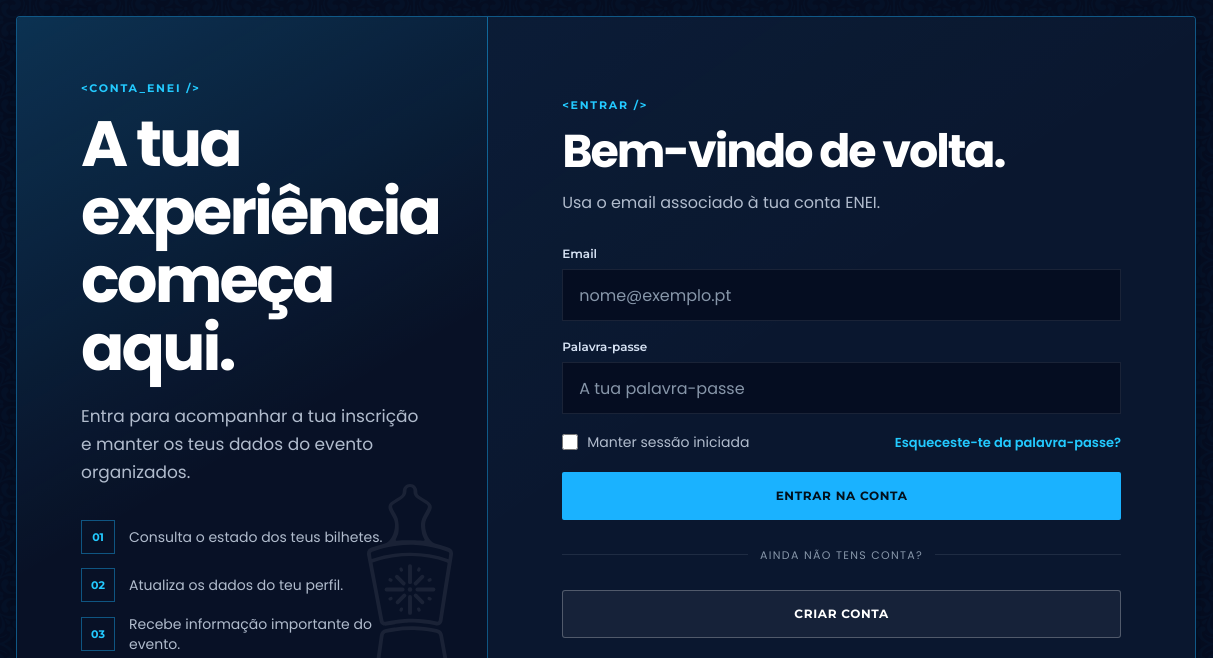
Entrar: estados comuns › 5xx: erro do servidor sem apagar o que se escreveu
The image size is (1213, 658).
Type "ana@example.com" into the field labelled "Email" at (842, 295), box [562,269,1121,321]
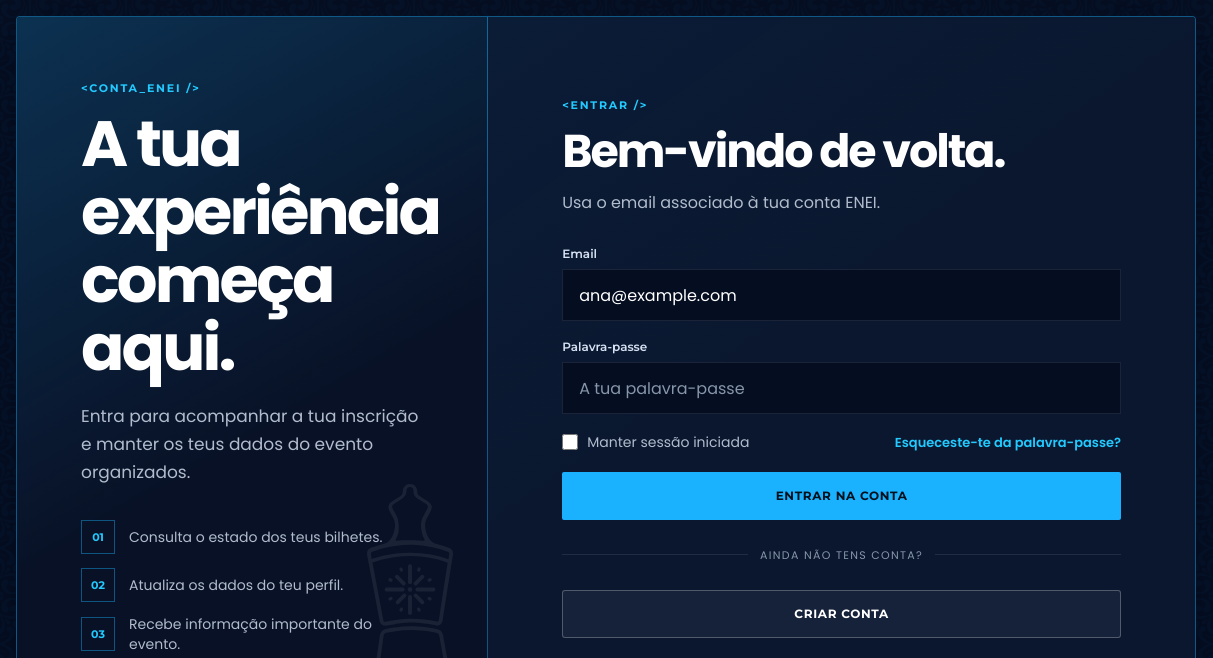
Type "Segredo1!" into the password field labelled "Palavra-passe" at (842, 388), box [562,362,1121,414]
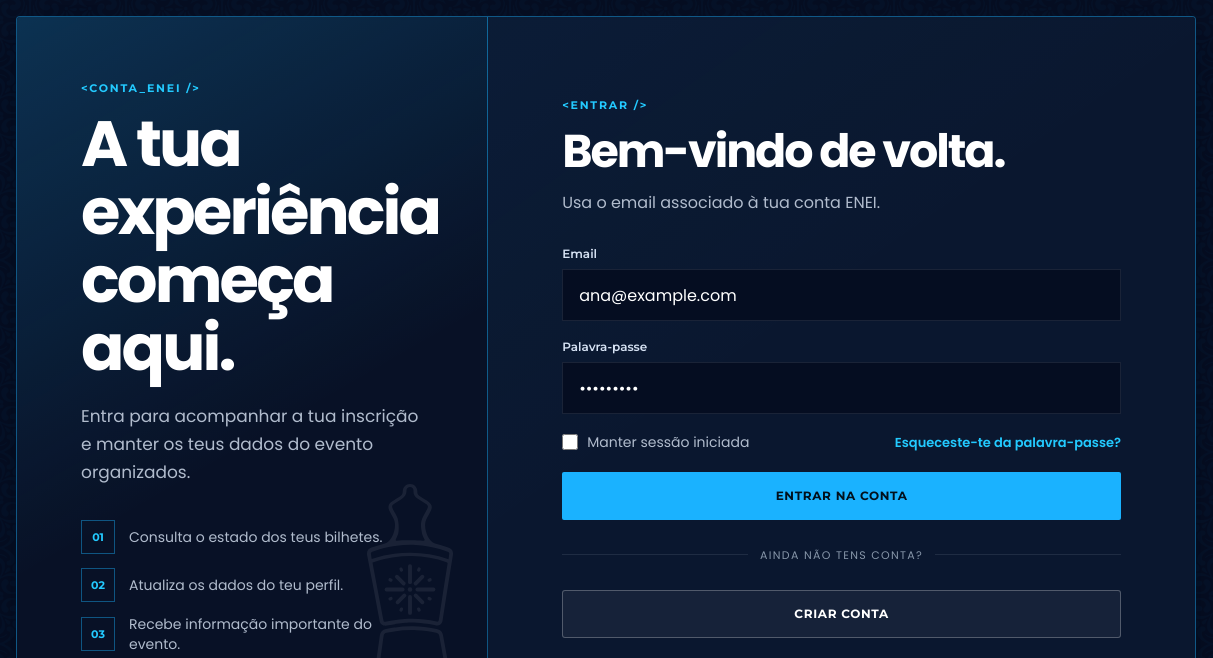
Click the button "Entrar na conta" at (842, 496), box [562,472,1121,520]
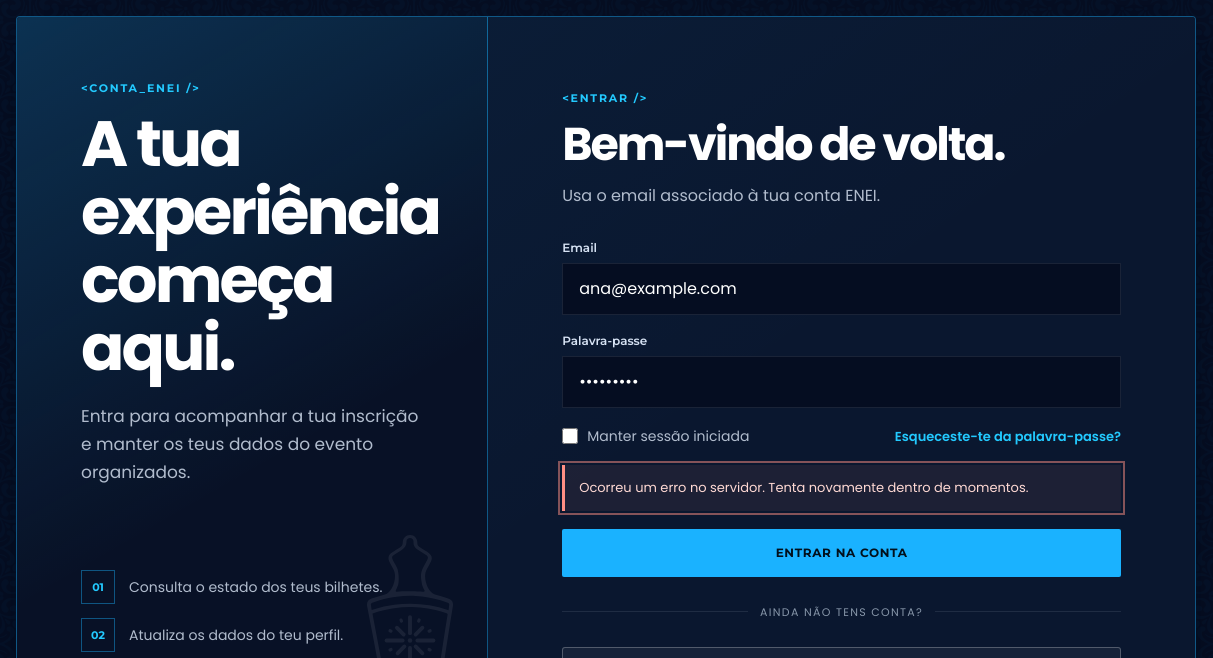
Check: the message shows "erro no servidor", box [579,478,1028,497]
